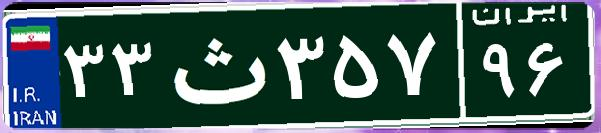3: (273, 28, 330, 110), (57, 26, 110, 107), (110, 28, 158, 105)
5: (330, 28, 385, 110)
6: (525, 38, 570, 115)
7: (385, 28, 445, 110)
9: (475, 38, 525, 113)
ث: (158, 15, 273, 115)
